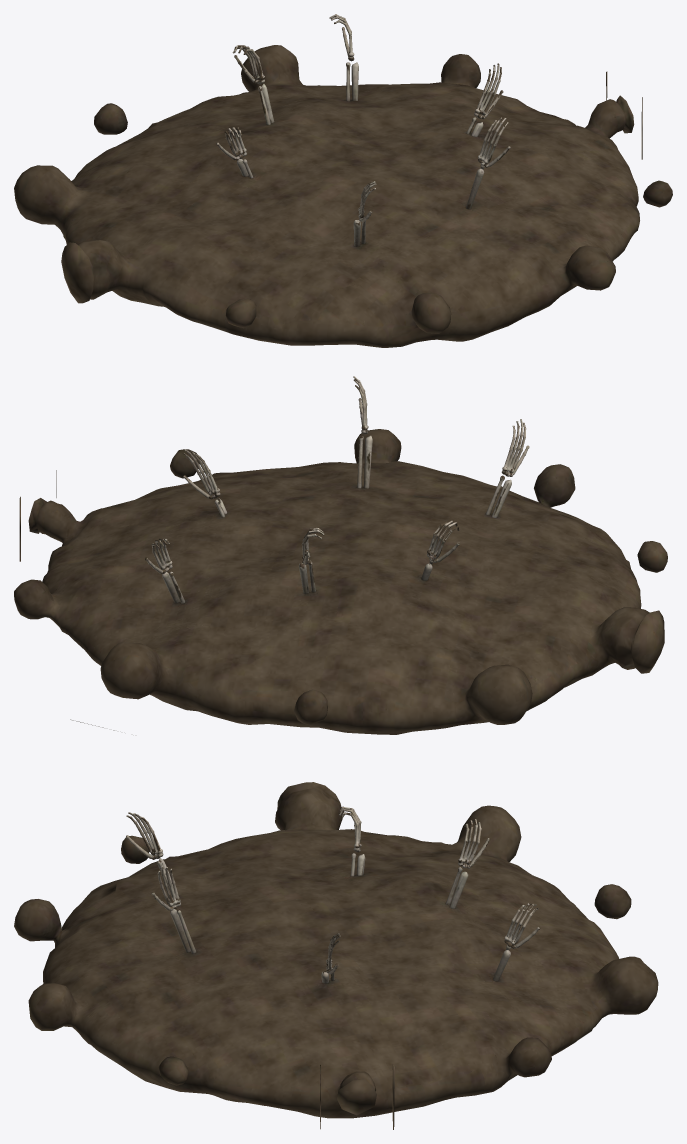
Rendered from grasping_arms.glb.
3 views of the same model, one above another, from view 1: azimuth 30°, elevation 25°; view 2: azimuth 150°, elevation 25°; view 3: azimuth 270°, elevation 25° (orthographic). The views are drawn at different scales.
Parts seen in each view (by area): view 1: Dirt_Mound, Arm0_hand, Arm5_hand, Arm2_hand, Arm3_hand; view 2: Dirt_Mound, Arm4_hand, Arm0_hand, Arm3_hand, Arm5_forearm, Arm1_hand; view 3: Dirt_Mound, Arm2_hand, Arm4_hand, Arm1_hand, Arm5_hand.
Part boxes in pixels (left/top/right/bottom): Dirt_Mound: left=14, top=45, right=672, bottom=347; Arm0_hand: left=474, top=63, right=503, bottom=119; Arm5_hand: left=478, top=117, right=510, bottom=167; Arm2_hand: left=232, top=45, right=265, bottom=84; Arm3_hand: left=216, top=127, right=246, bottom=160; Dirt_Mound: left=14, top=429, right=667, bottom=734; Arm4_hand: left=501, top=419, right=529, bottom=476; Arm0_hand: left=182, top=449, right=220, bottom=499; Arm3_hand: left=427, top=520, right=459, bottom=562; Arm5_forearm: left=357, top=435, right=372, bottom=488; Arm1_hand: left=145, top=538, right=172, bottom=573; Dirt_Mound: left=14, top=782, right=658, bottom=1129; Arm2_hand: left=458, top=819, right=490, bottom=868; Arm4_hand: left=126, top=812, right=163, bottom=859; Arm1_hand: left=504, top=903, right=540, bottom=948; Arm5_hand: left=151, top=867, right=180, bottom=910.
Size of the model in its own units: 1.94 by 0.632 by 1.84.
1 material, 1 textured.
